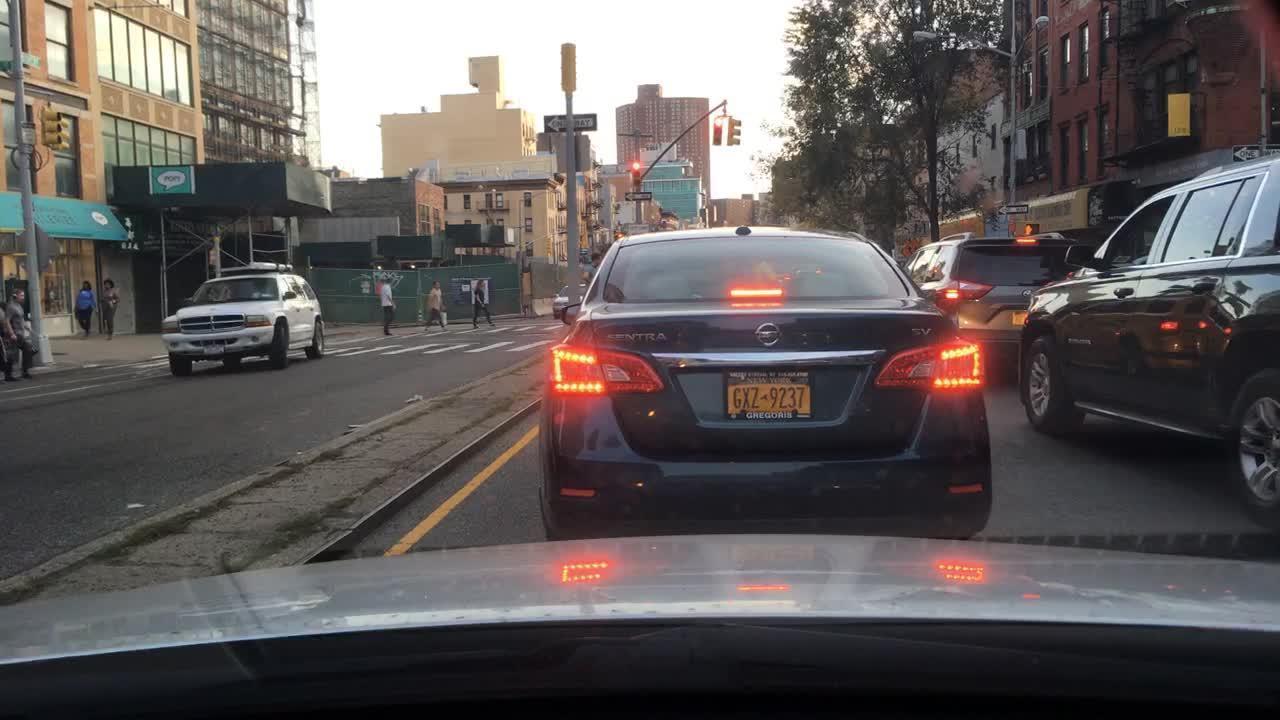Nissan: (750, 314, 795, 352)
